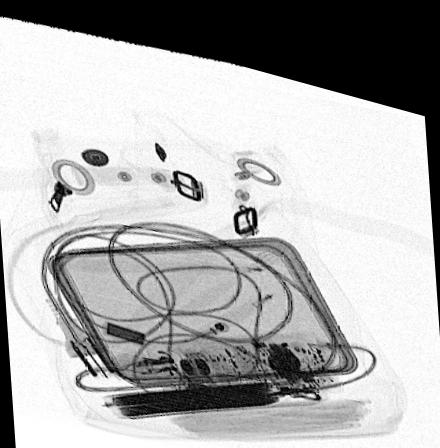Powerbank: (100, 358, 319, 411)
